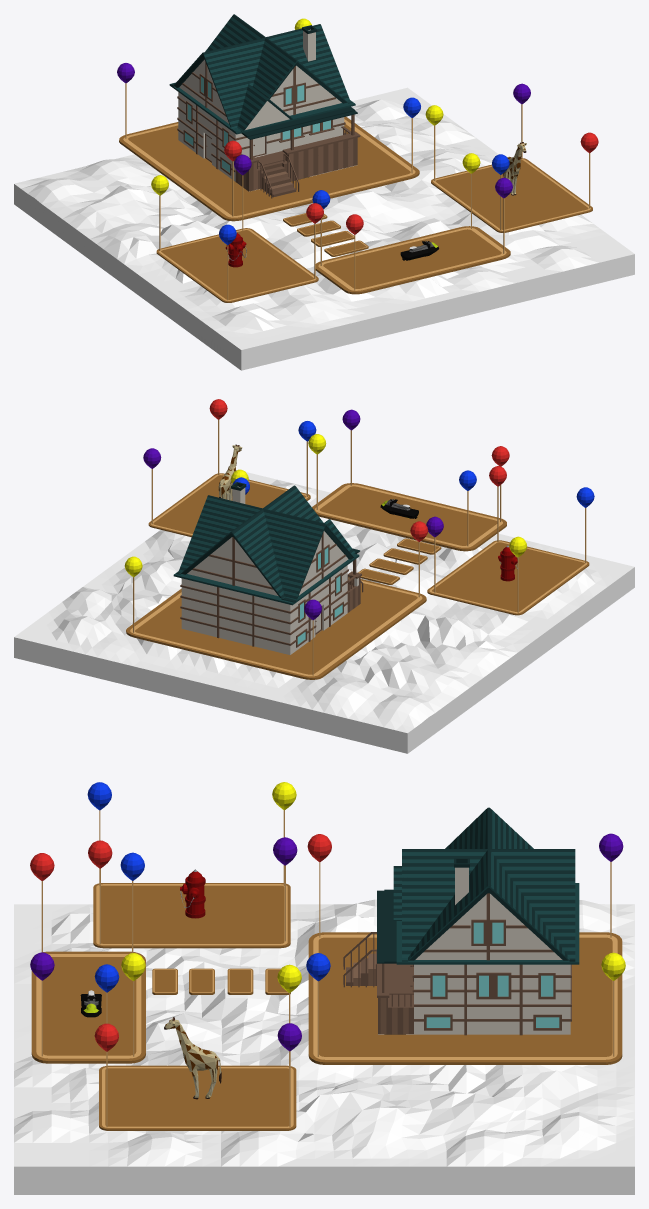
The picture shows the model from 3 angles, top to bottom: view 1: azimuth 30°, elevation 25°; view 2: azimuth 150°, elevation 25°; view 3: azimuth 270°, elevation 25°; orthographic projection. The views are drawn at different scales.
Parts seen in each view (by area): view 1: Cube.013, Cube.793, ANIMAL_JIRAFA; view 2: Cube.013, Cube.793, ANIMAL_JIRAFA, OBJRANDOM_FIRE_HYDRANT; view 3: Cube.013, Cube.793, ANIMAL_JIRAFA, OBJRANDOM_FIRE_HYDRANT.
Part boxes in pixels (x1,y1,x2,y2): Cube.013: (14,18,634,370); Cube.793: (169,14,360,198); ANIMAL_JIRAFA: (503,142,526,195); Cube.013: (14,399,634,753); Cube.793: (173,482,363,654); ANIMAL_JIRAFA: (218,444,242,500); OBJRANDOM_FIRE_HYDRANT: (498,545,517,581); Cube.013: (14,782,634,1194); Cube.793: (343,807,579,1035); ANIMAL_JIRAFA: (164,1017,221,1099); OBJRANDOM_FIRE_HYDRANT: (180,869,205,918).
Bounding box in the file's own units: 4000 × 1666 × 4000.
29 materials, 2 textured.
